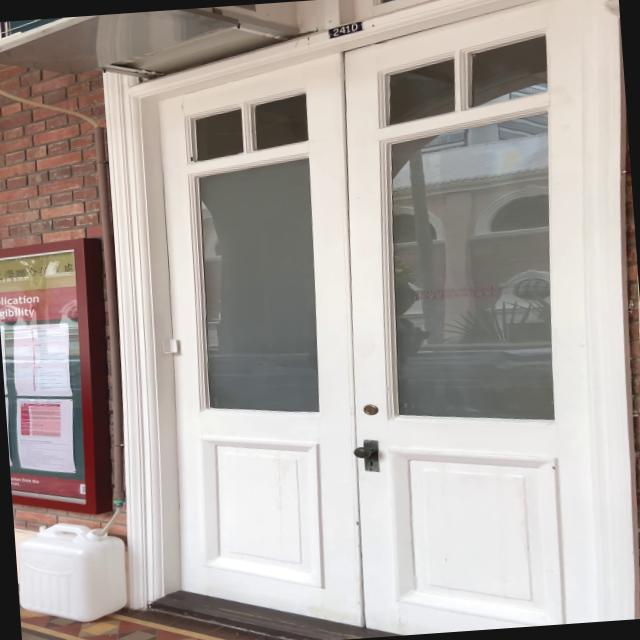room241d: (325, 18, 366, 41)
